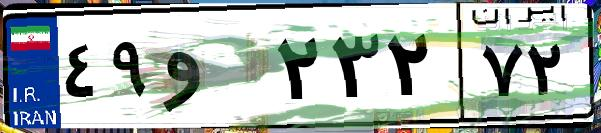2: (270, 28, 330, 110), (385, 28, 445, 110), (525, 38, 570, 115)
3: (330, 28, 385, 110)
4: (57, 26, 110, 100)
7: (475, 38, 525, 113)
9: (110, 28, 158, 98)
و: (158, 20, 270, 120)
